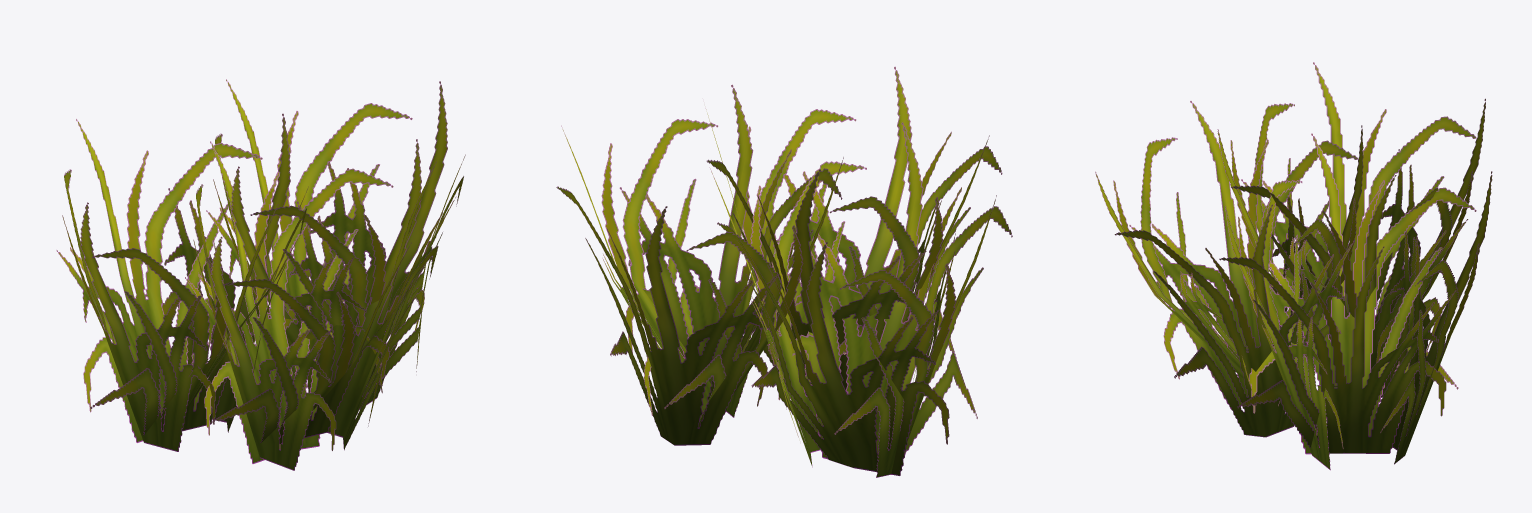
The model's file is n_SWTgrass02c.glb.
3 views of the same model, side by side, from view 1: azimuth 30°, elevation 25°; view 2: azimuth 150°, elevation 25°; view 3: azimuth 270°, elevation 25° (orthographic). The views are drawn at different scales.
Parts seen in each view (by area): view 1: n_SWTgrass02c; view 2: n_SWTgrass02c; view 3: n_SWTgrass02c.
Boxes of the visible parts, x1,y1,x2,y2 form: n_SWTgrass02c: (56,79,465,470); n_SWTgrass02c: (556,66,1012,477); n_SWTgrass02c: (1095,62,1492,470).
Bounding box in the file's own units: 0.6056 × 0.4528 × 0.5558.
Materials: 1 (1 with a texture image).
